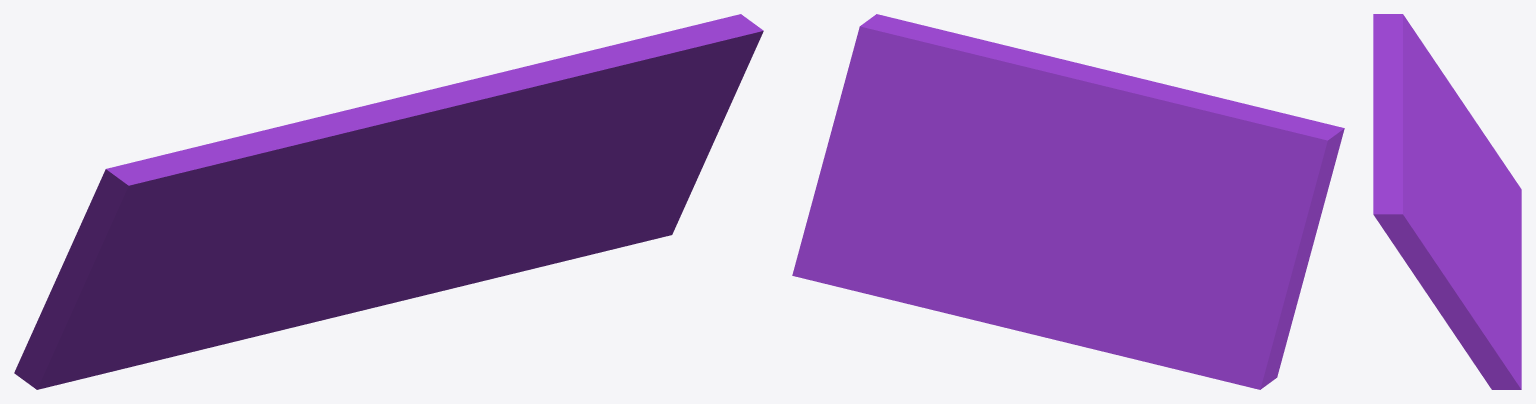
The model's file is Window_28.fbx.
3 views of the same model, side by side, from view 1: azimuth 30°, elevation 25°; view 2: azimuth 150°, elevation 25°; view 3: azimuth 270°, elevation 25° (orthographic). The views are drawn at different scales.
Visible parts, largest first — view 1: Window_28; view 2: Window_28; view 3: Window_28.
Part boxes in pixels (<box>): Window_28: <box>14,14,763,389</box>; Window_28: <box>792,14,1344,389</box>; Window_28: <box>1373,14,1521,389</box>.
Bounding box in the file's own units: 1059 × 432 × 331.
